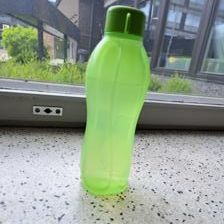bottle: (76, 8, 158, 196)
